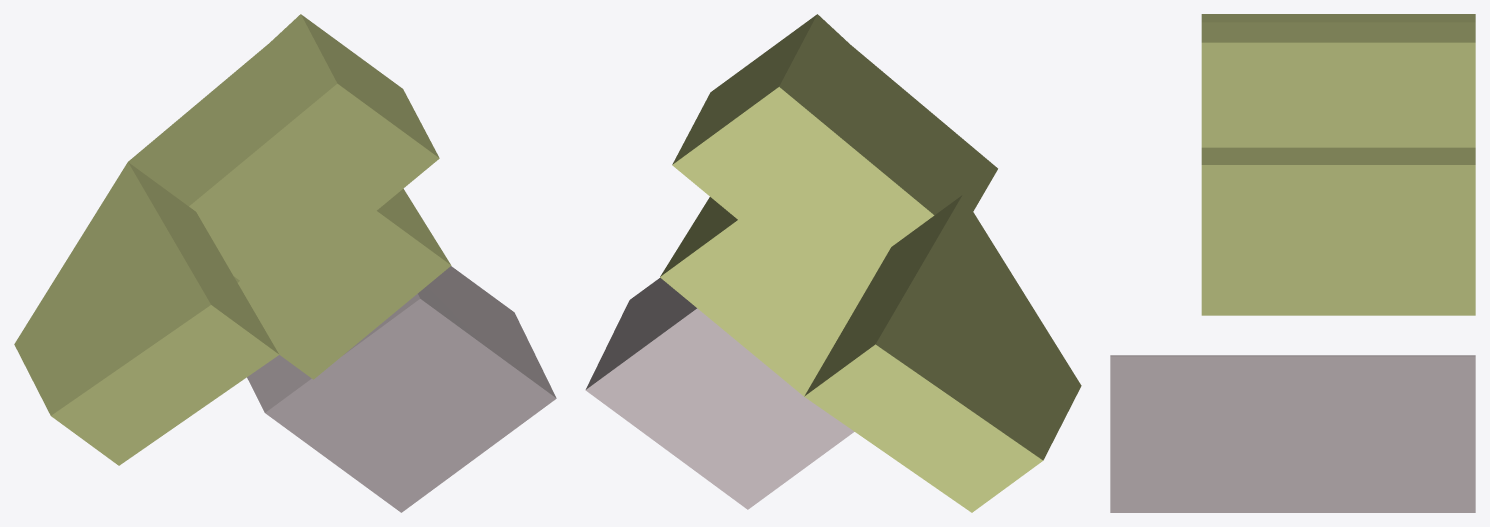
3 views of the same model, side by side, from view 1: azimuth 30°, elevation 25°; view 2: azimuth 150°, elevation 25°; view 3: azimuth 270°, elevation 25° (orthographic). The views are drawn at different scales.
Visible parts, largest first — view 1: 0_1_1_3_3_1_0_2_3_3; view 2: 0_1_1_3_3_1_0_2_3_3; view 3: 0_1_1_3_3_1_0_2_3_3.
Part boxes in pixels (bbox=[...]): 0_1_1_3_3_1_0_2_3_3: bbox=[14, 14, 556, 512]; 0_1_1_3_3_1_0_2_3_3: bbox=[585, 14, 1081, 512]; 0_1_1_3_3_1_0_2_3_3: bbox=[1110, 14, 1475, 512].
Bounding box in the file's own units: 20.61 × 18.94 × 12.
